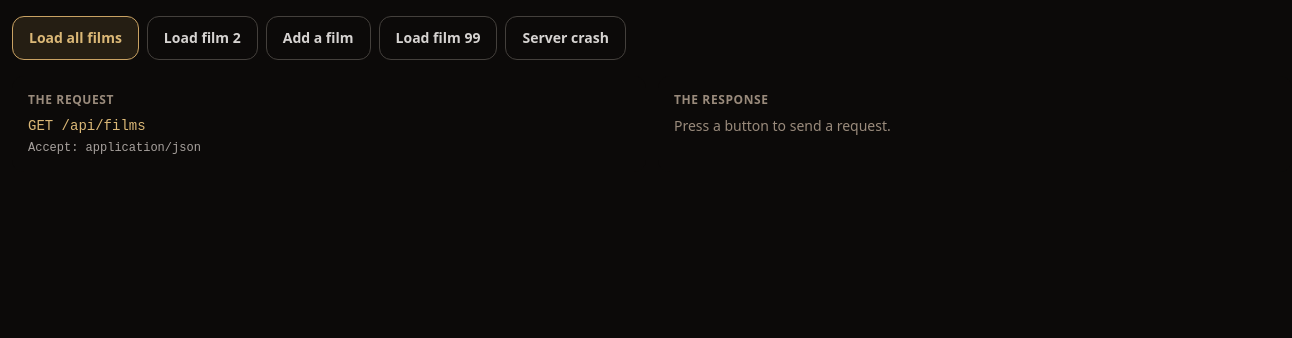
Test: HttpLabDemoComponent › shows the body that was sent with a POST
The image size is (1292, 338).
Click the button "Add a film".
click(318, 38)  # box x1=266 y1=16 x2=370 y2=60
Wait 700 ms
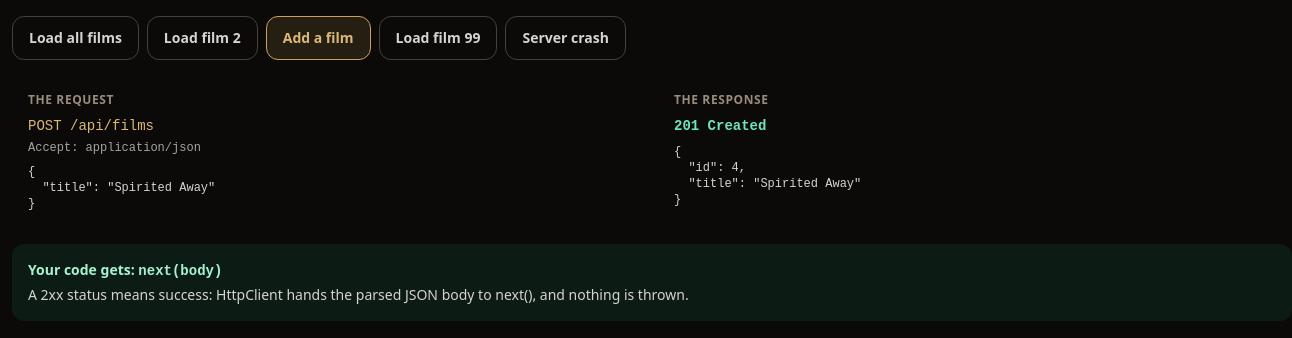
Check: the text "POST /api/films" is shown, box x1=28 y1=118 x2=154 y2=134
Check: the text "201 Created" is shown, box x1=674 y1=118 x2=766 y2=134
